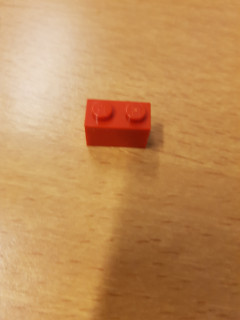1x2 red: (84, 97, 151, 149)
